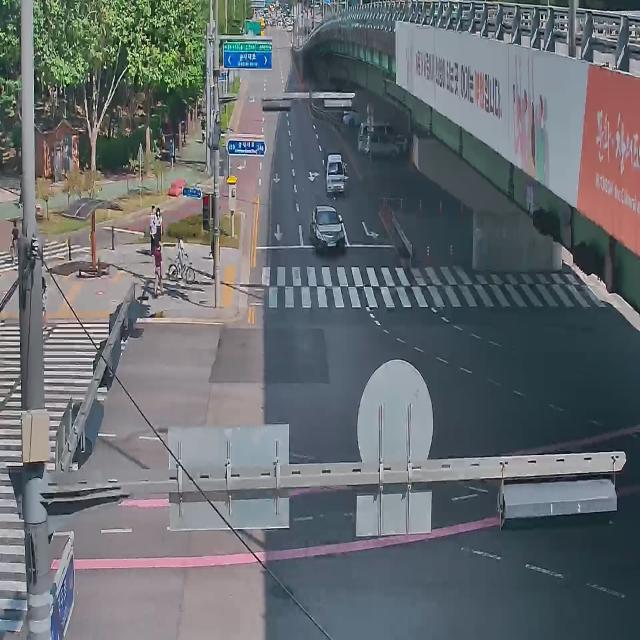Car: (358, 118, 407, 159), (309, 204, 344, 252), (324, 153, 348, 193), (339, 101, 366, 128), (367, 136, 400, 157)
